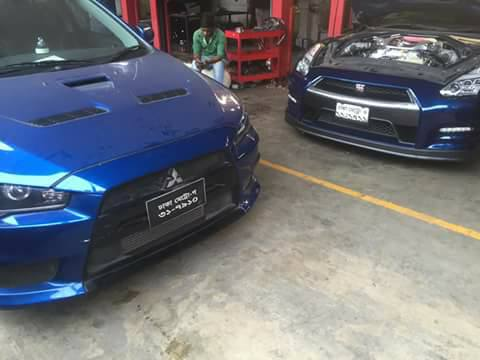registration_plate: (145, 176, 208, 231), (335, 102, 370, 124)
